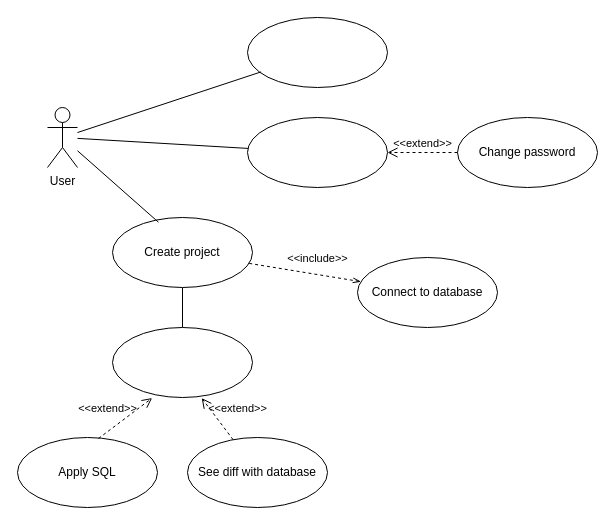
Some shapes in this 615 by 525 pixel diagram are drawn without their labels. The shapes that lost their labels are listed below. From the top down, each one's centre as x and y in pixels, then its label:
At point 317,52: "Create account".
At point 317,152: "Login".
At point 182,362: "Ask question".
